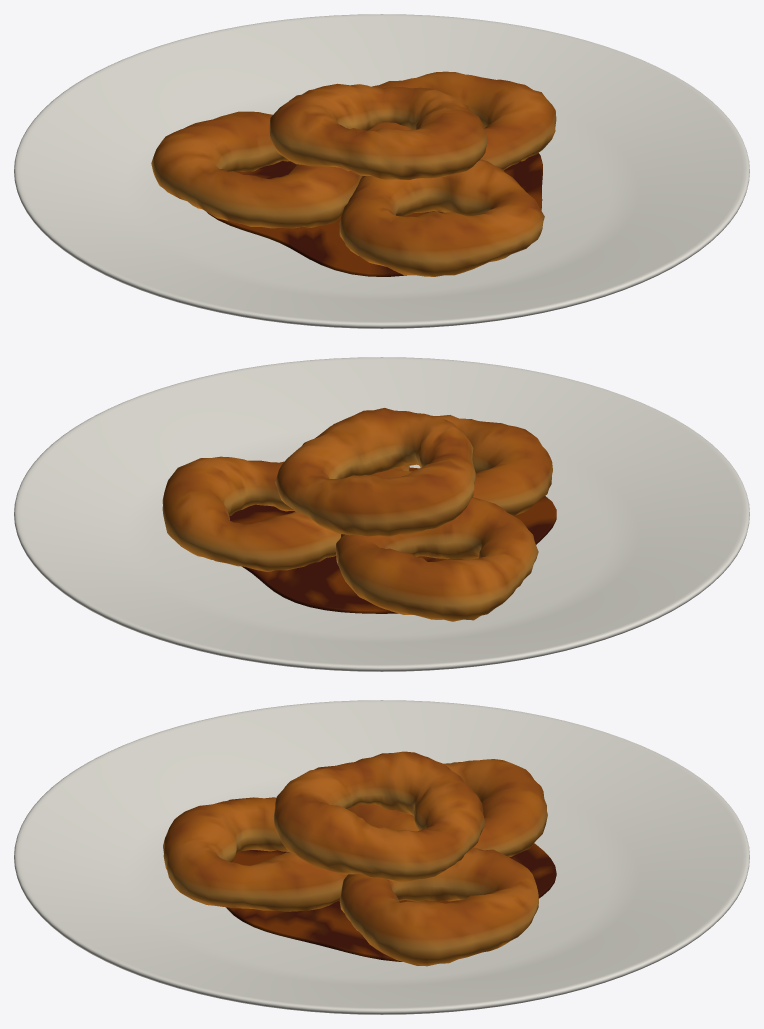
The model's file is paso-5.glb.
The picture shows the model from 3 angles, top to bottom: view 1: azimuth 30°, elevation 25°; view 2: azimuth 150°, elevation 25°; view 3: azimuth 270°, elevation 25°; orthographic projection.
Parts seen in each view (by area): view 1: paso-5-0, paso-5-4, paso-5-5, paso-5-3, paso-5-2, paso-5-1; view 2: paso-5-0, paso-5-5, paso-5-3, paso-5-2, paso-5-4, paso-5-1; view 3: paso-5-0, paso-5-5, paso-5-2, paso-5-4, paso-5-3, paso-5-1.
Part boxes in pixels (bbox=[...]): paso-5-0: bbox=[14, 14, 749, 328]; paso-5-4: bbox=[339, 159, 544, 276]; paso-5-5: bbox=[269, 83, 487, 180]; paso-5-3: bbox=[151, 111, 362, 228]; paso-5-2: bbox=[369, 71, 556, 170]; paso-5-1: bbox=[207, 153, 542, 276]; paso-5-0: bbox=[14, 357, 749, 671]; paso-5-5: bbox=[275, 408, 475, 536]; paso-5-3: bbox=[335, 497, 538, 621]; paso-5-2: bbox=[162, 456, 340, 571]; paso-5-4: bbox=[370, 415, 552, 515]; paso-5-1: bbox=[229, 467, 556, 613]; paso-5-0: bbox=[14, 700, 749, 1014]; paso-5-5: bbox=[273, 751, 484, 882]; paso-5-2: bbox=[339, 847, 538, 966]; paso-5-4: bbox=[163, 797, 347, 911]; paso-5-3: bbox=[347, 759, 547, 857]; paso-5-1: bbox=[226, 843, 556, 961].
Bounding box in the file's own units: 0.3 × 0.0491 × 0.3.
